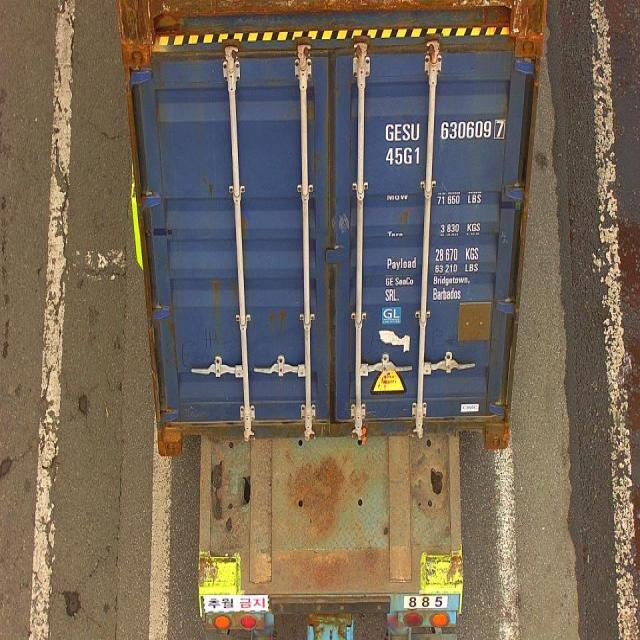ISO: (386, 147, 422, 166)
container_number: (384, 114, 508, 144)
